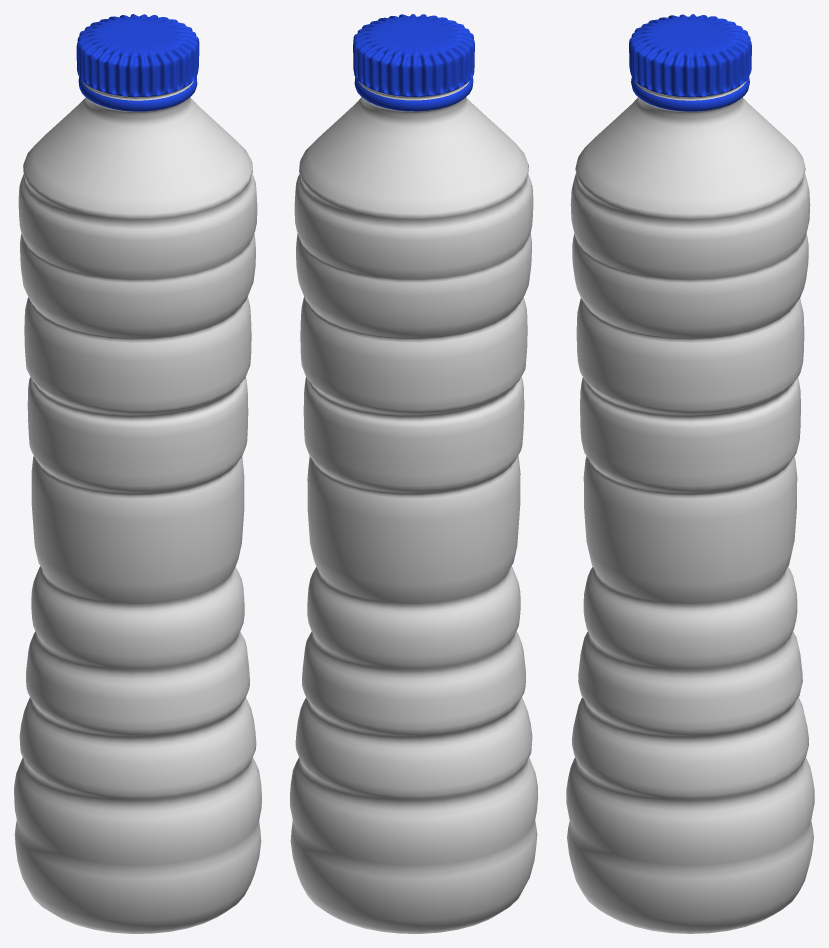
3 views of the same model, side by side, from view 1: azimuth 30°, elevation 25°; view 2: azimuth 150°, elevation 25°; view 3: azimuth 270°, elevation 25° (orthographic).
Parts seen in each view (by area): view 1: Plane.001; view 2: Plane.001; view 3: Plane.001.
Boxes of the visible parts, bbox=[...] form: Plane.001: bbox=[14, 14, 261, 933]; Plane.001: bbox=[290, 14, 537, 933]; Plane.001: bbox=[566, 14, 814, 933].
Size of the model in its own units: 0.2552 by 0.98 by 0.2552.
2 materials, 1 textured.
